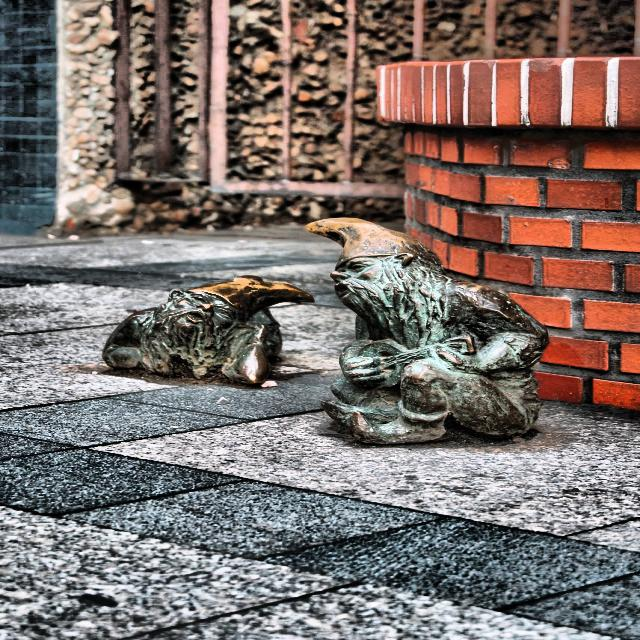Grajek_i_Meloman: (100, 218, 549, 446)
